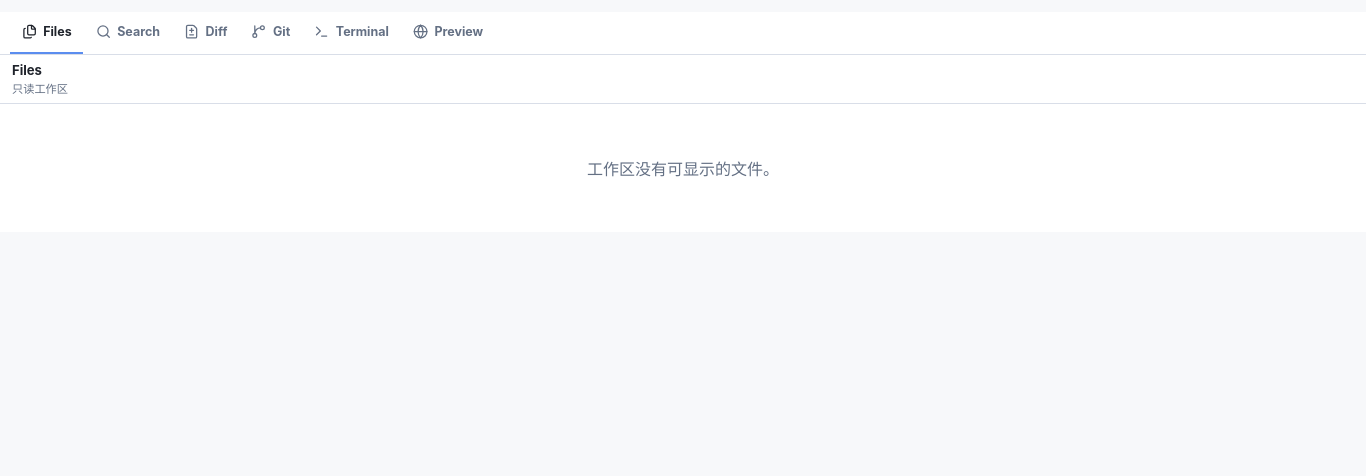
Workbench shell › switches Files, Diff, Terminal, and Preview through accessible tabs
Expected: the element named "工作台面板" is shown, [0,12,1365,55]
Click the tab "Files".
click(47, 33)  # box [10,12,83,54]
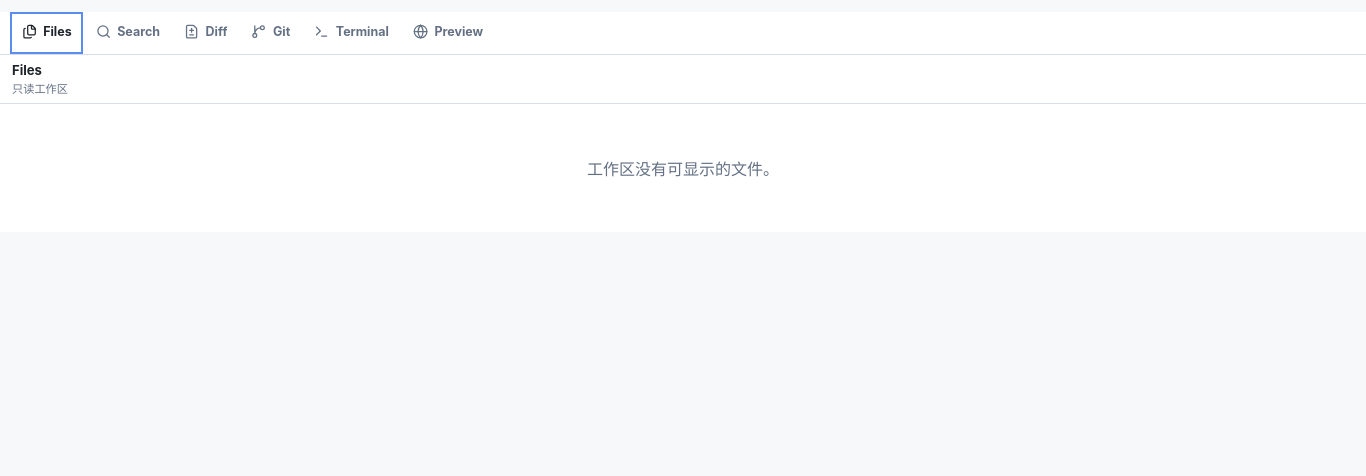
Expected: the panel "Files" is shown, [0,55,1365,232]
Click the tab "Diff".
click(206, 33)  # box [173,12,239,54]
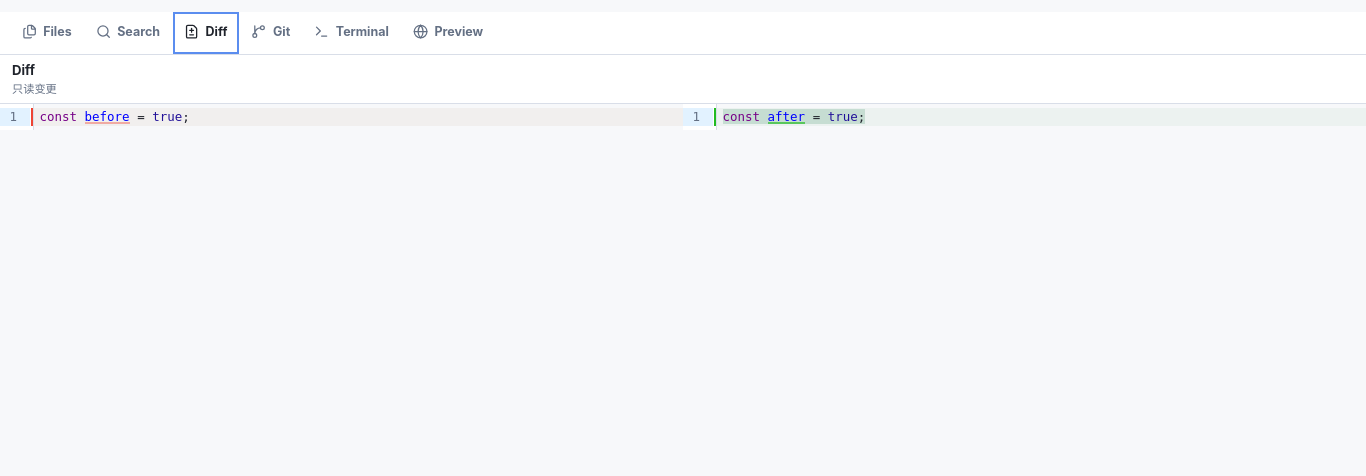
Expected: the panel "Diff" is shown, [0,55,1365,130]
Expected: the element named "只读 Diff src/App.tsx" is shown, [0,104,1365,130]
Click the tab "Terminal".
click(352, 33)  # box [303,12,400,54]
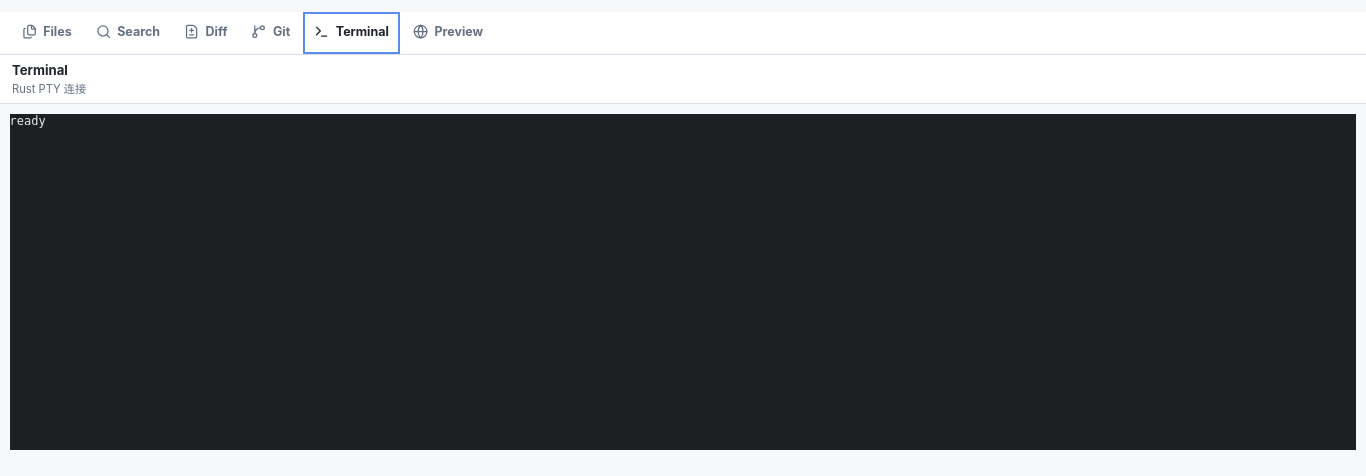
Expected: the panel "Terminal" is shown
Expected: the element named "工作区终端" is shown
Click the tab "Preview".
click(448, 33)  # box [402,12,494,54]
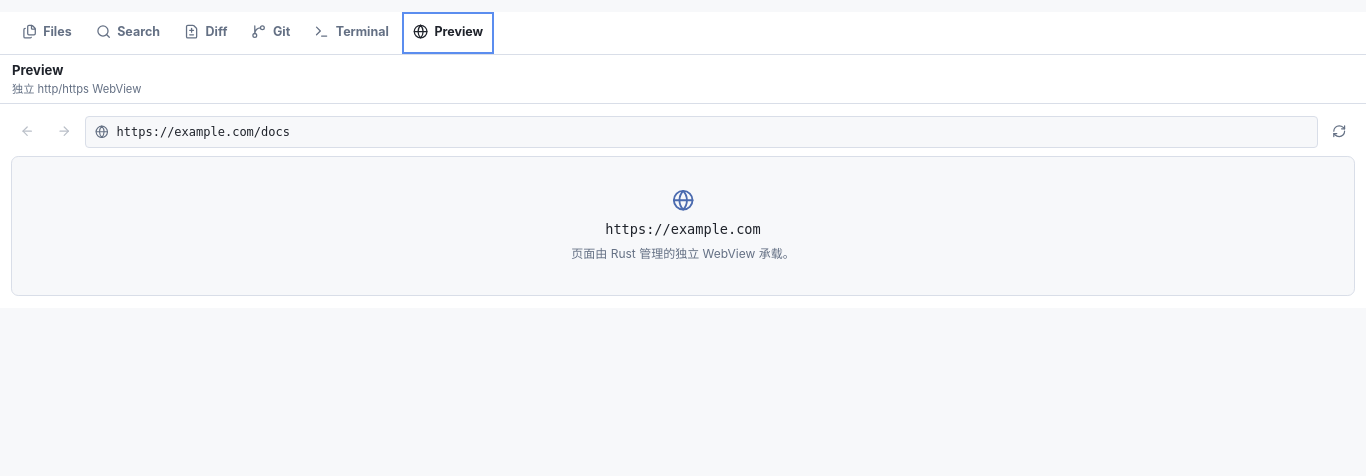
Expected: the panel "Preview" is shown, [0,55,1365,308]
Expected: the text "https://example.com" is shown, [605,220,761,236]
Click the tab "Files".
click(47, 33)  # box [10,12,83,54]
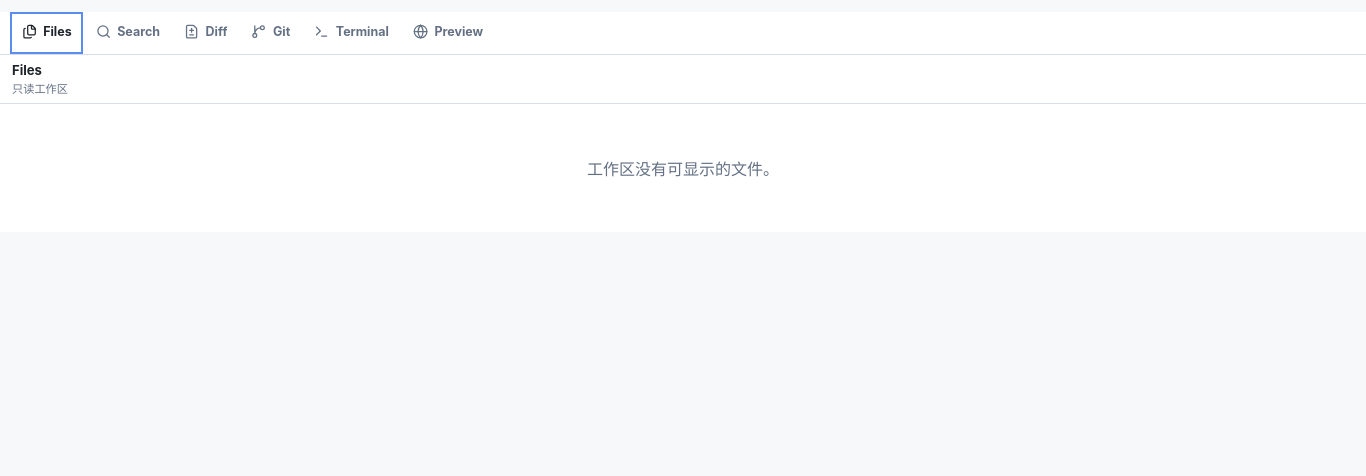
Expected: the panel "Files" is shown, [0,55,1365,232]
